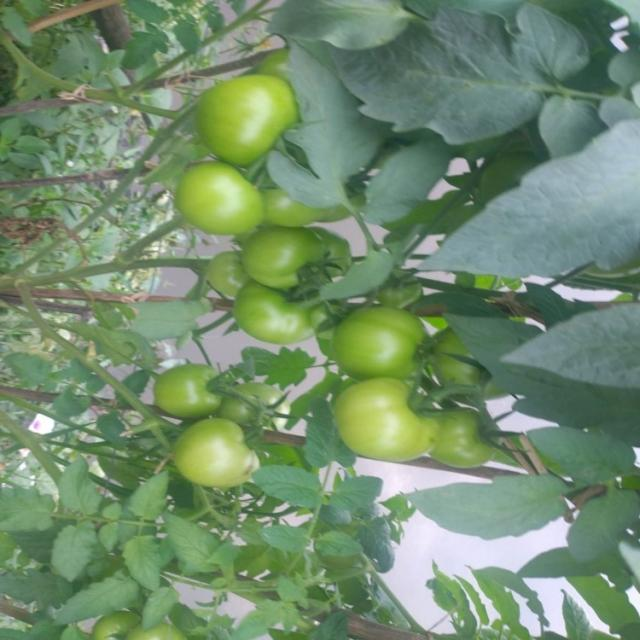tomato: (325, 377, 452, 456), (177, 150, 264, 239), (203, 75, 299, 153), (172, 413, 265, 491), (334, 302, 436, 373), (226, 280, 327, 344), (242, 226, 331, 297), (433, 394, 500, 476), (151, 358, 221, 422), (227, 375, 298, 431), (431, 328, 488, 390), (259, 191, 322, 231), (95, 604, 147, 640), (126, 623, 190, 640)
